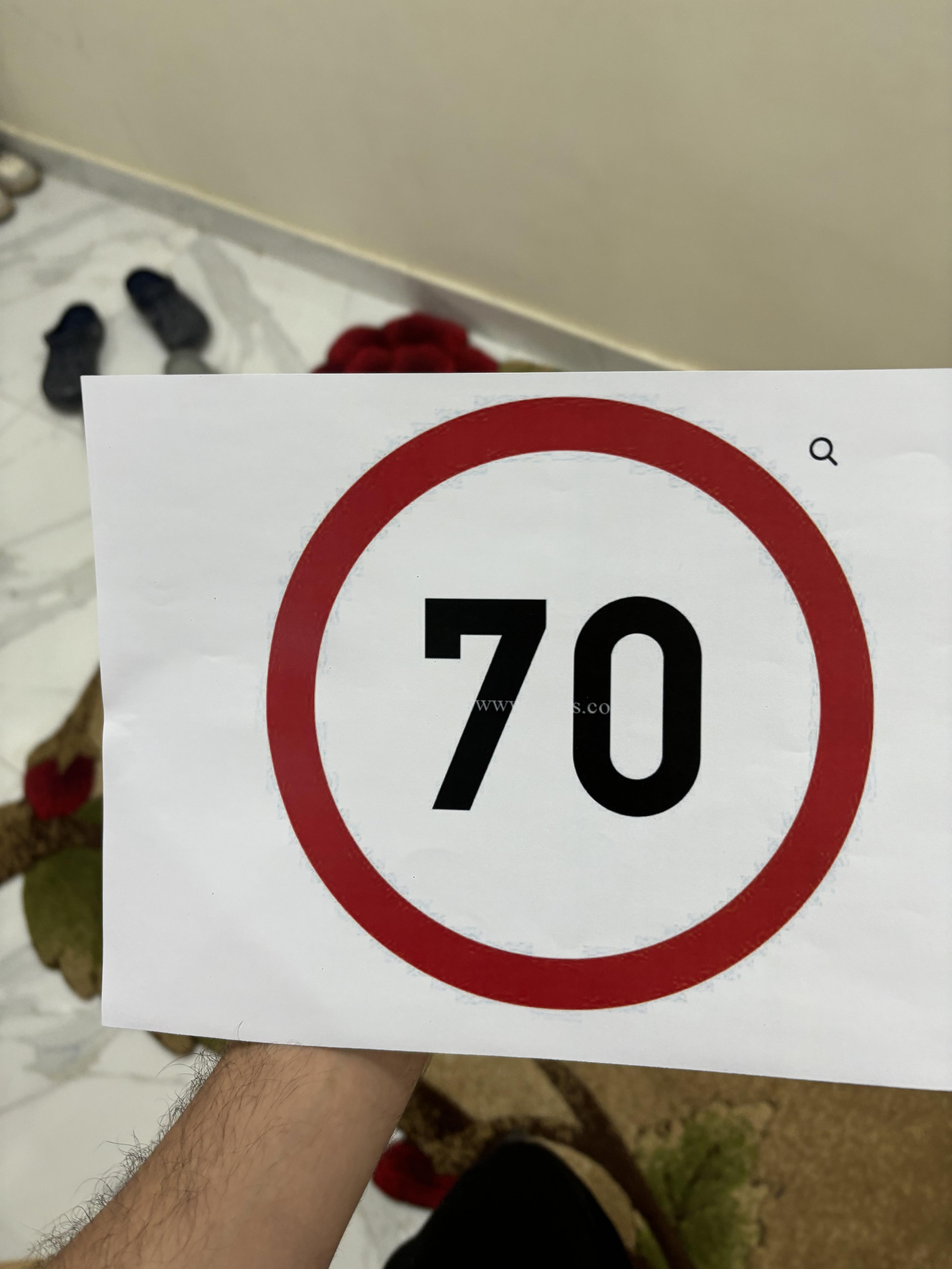70-Speed: (254, 389, 886, 1013)
